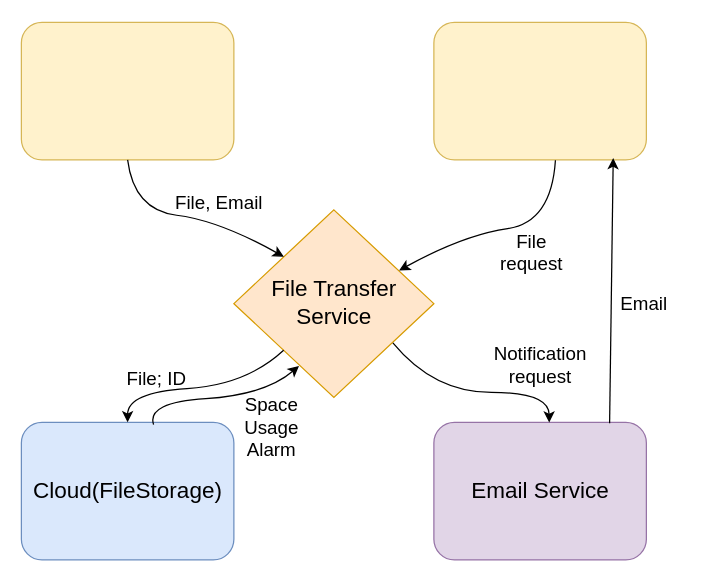
This 704x581 diagram has some shape labels left out. Each missing label, with the box of its shape:
Recepient: (433, 21, 646, 160)
Sender: (20, 21, 234, 160)
